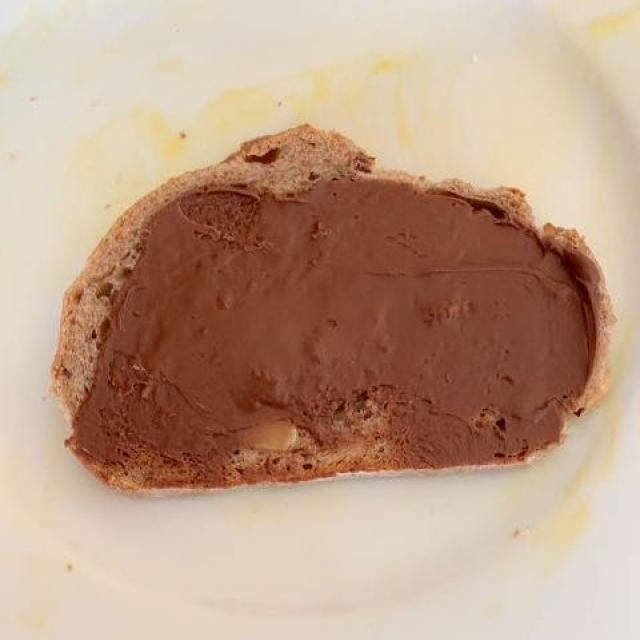bread: (57, 132, 609, 483)
nutella: (79, 172, 602, 488)
